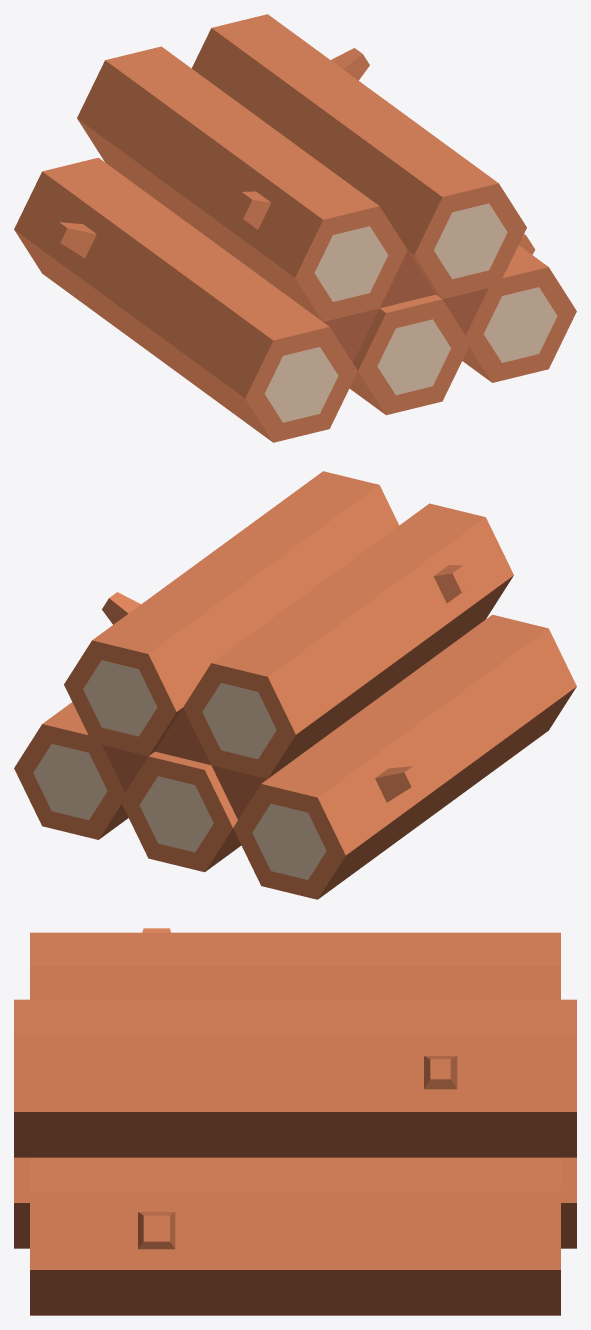
The model's file is log_stackLarge.dae.
3 views of the same model, one above another, from view 1: azimuth 30°, elevation 25°; view 2: azimuth 150°, elevation 25°; view 3: azimuth 270°, elevation 25° (orthographic). The views are drawn at different scales.
Parts seen in each view (by area): view 1: log_stackLarge; view 2: log_stackLarge; view 3: log_stackLarge.
Part boxes in pixels (bbox=[...]): log_stackLarge: bbox=[14, 14, 576, 442]; log_stackLarge: bbox=[14, 471, 576, 899]; log_stackLarge: bbox=[14, 928, 576, 1315].
Size of the model in its own units: 0.634 by 0.3464 by 0.71.
